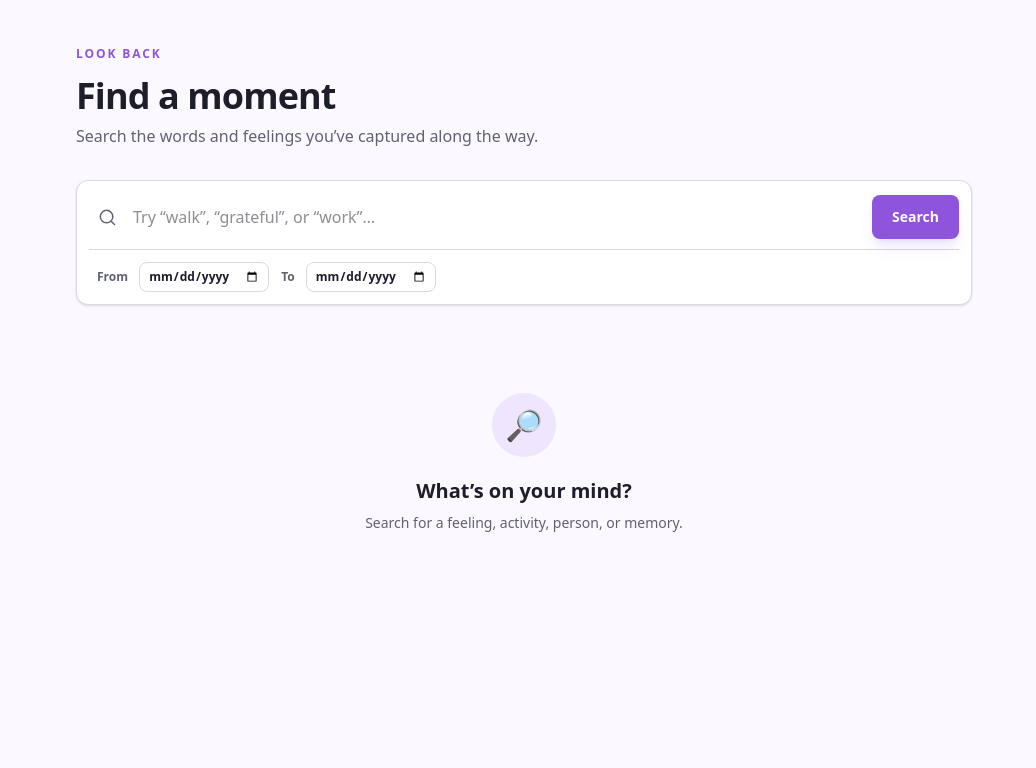
SearchPage › submits a trimmed query into the URL
Type "  morning walk  " into the field named "Search entries" at x=495, y=217, box [125,193,864,241]
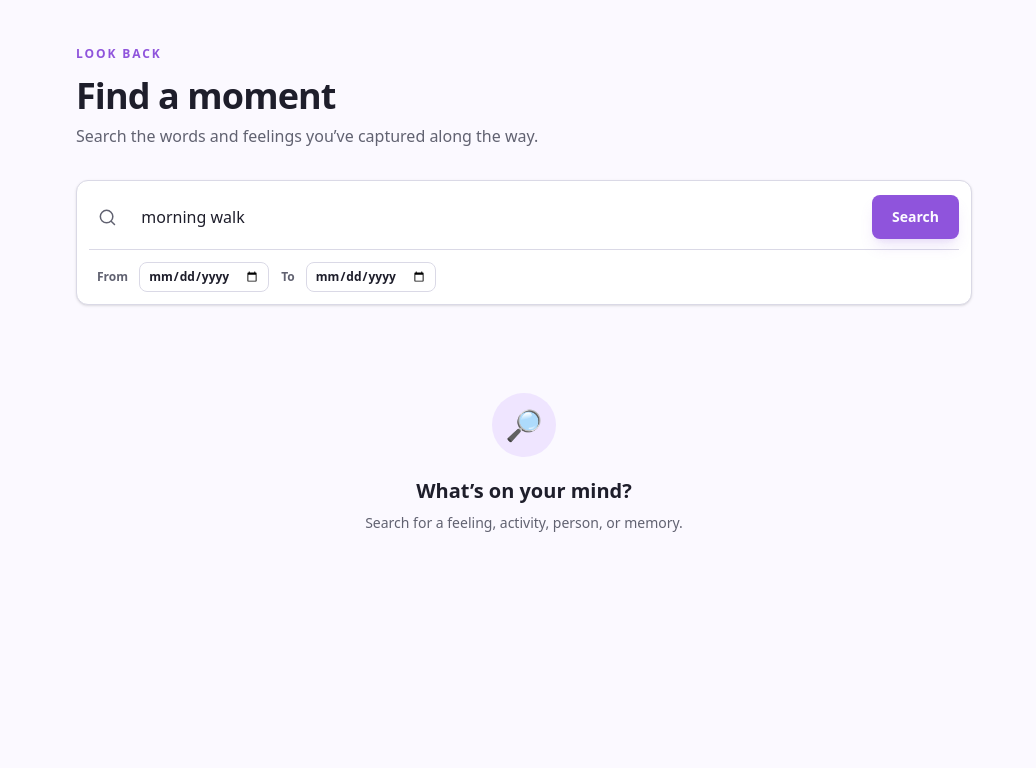
Click the button "Search" at x=916, y=217, box [872,195,959,239]
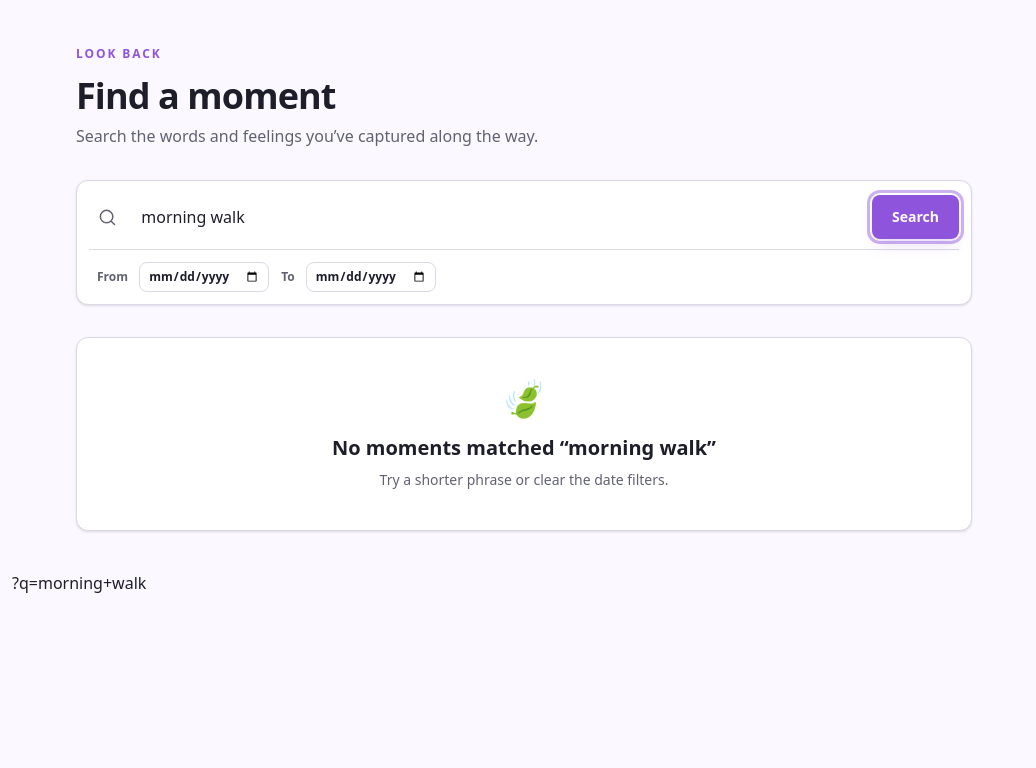
Expected: the text named "Current URL" reads "?q=morning+walk", [12,572,146,594]
